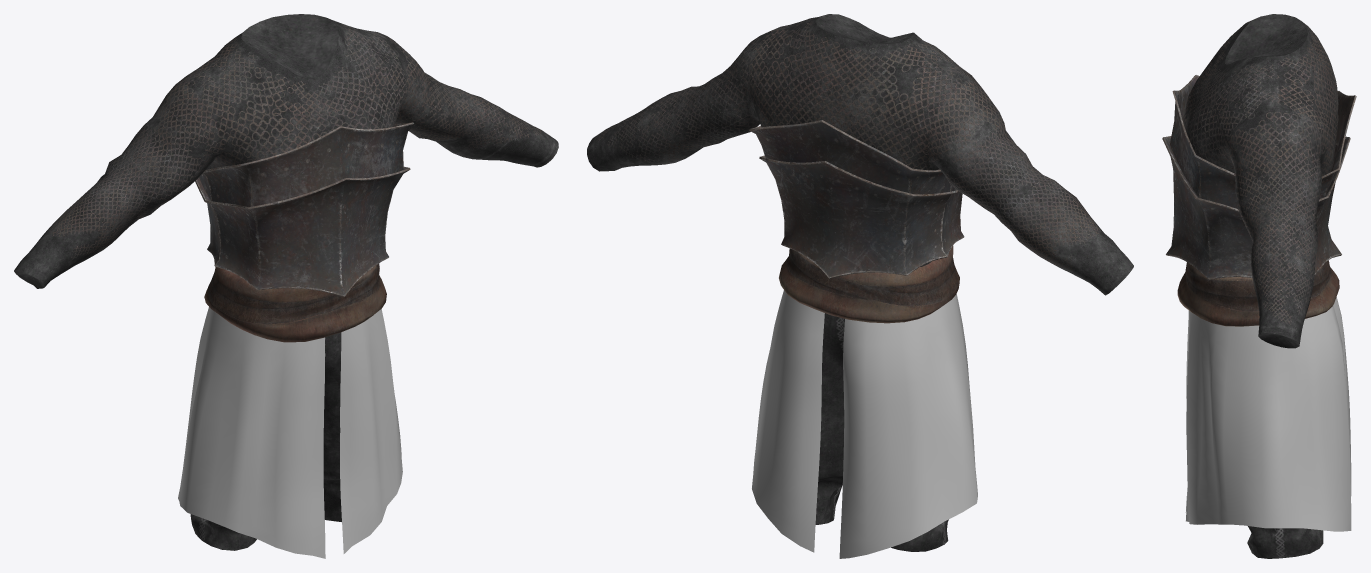
The model's file is sk_dg_uruk_chest_med_c.fbx.
3 views of the same model, side by side, from view 1: azimuth 30°, elevation 25°; view 2: azimuth 150°, elevation 25°; view 3: azimuth 270°, elevation 25° (orthographic). The views are drawn at different scales.
Parts seen in each view (by area): view 1: sk_dg_uruk_chest_med_c.0, sk_dg_uruk_chest_med_c.skirt, sk_dg_uruk_chest_med_c.2, sk_dg_uruk_chest_med_c.1; view 2: sk_dg_uruk_chest_med_c.0, sk_dg_uruk_chest_med_c.skirt, sk_dg_uruk_chest_med_c.2, sk_dg_uruk_chest_med_c.1; view 3: sk_dg_uruk_chest_med_c.0, sk_dg_uruk_chest_med_c.skirt, sk_dg_uruk_chest_med_c.2, sk_dg_uruk_chest_med_c.1.
Part boxes in pixels (x1,y1,x2,y2): sk_dg_uruk_chest_med_c.0: (14, 14, 558, 550); sk_dg_uruk_chest_med_c.skirt: (178, 307, 402, 558); sk_dg_uruk_chest_med_c.2: (195, 122, 413, 296); sk_dg_uruk_chest_med_c.1: (204, 263, 386, 342); sk_dg_uruk_chest_med_c.0: (587, 14, 1133, 551); sk_dg_uruk_chest_med_c.skirt: (752, 290, 977, 558); sk_dg_uruk_chest_med_c.2: (749, 120, 964, 278); sk_dg_uruk_chest_med_c.1: (779, 246, 959, 323); sk_dg_uruk_chest_med_c.0: (1184, 14, 1338, 558); sk_dg_uruk_chest_med_c.skirt: (1185, 297, 1351, 531); sk_dg_uruk_chest_med_c.2: (1162, 75, 1356, 279); sk_dg_uruk_chest_med_c.1: (1177, 260, 1339, 326).
Size of the model in its own units: 1.35 by 0.4319 by 1.2.
